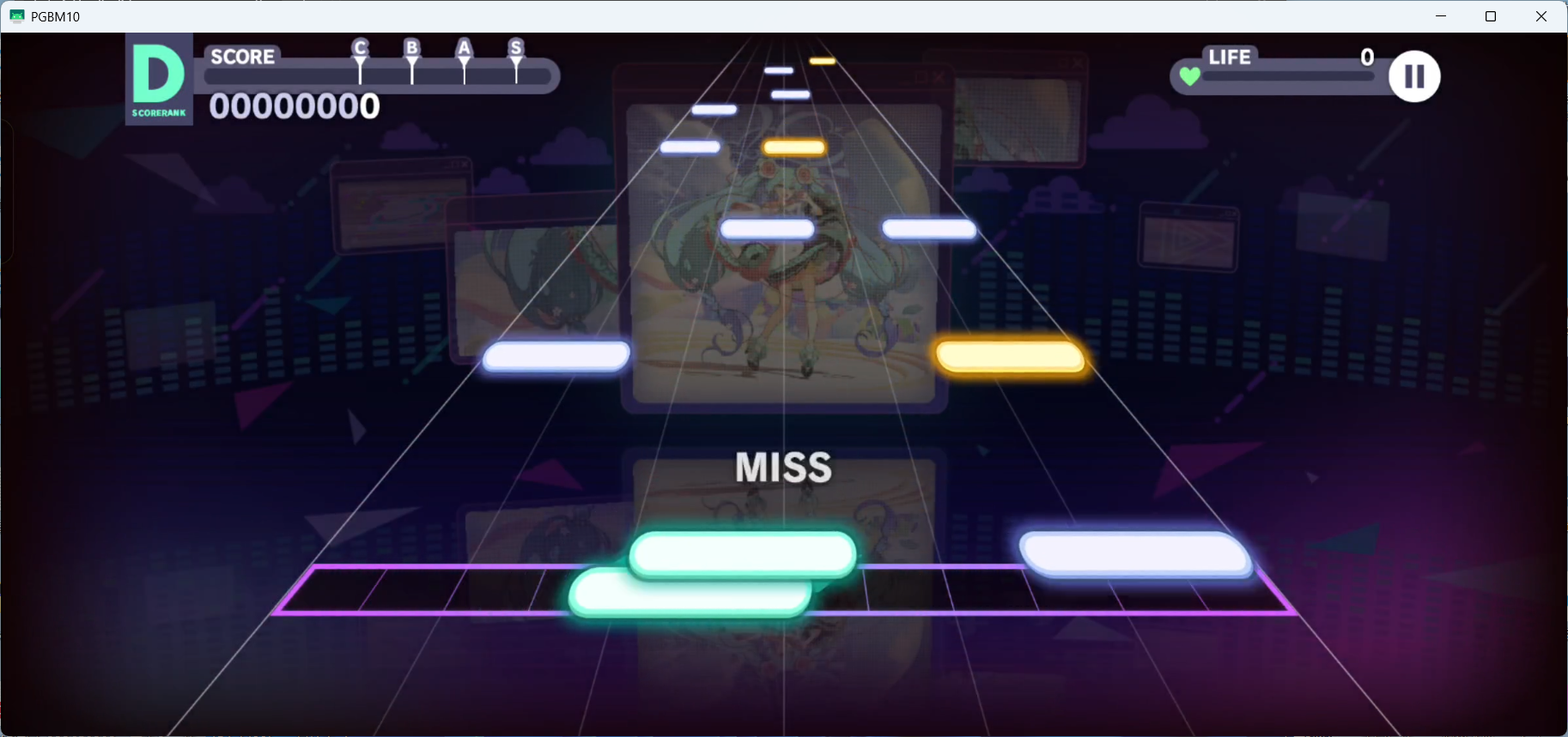tap: (568, 568, 811, 619), (630, 530, 858, 581), (1019, 530, 1255, 579), (483, 341, 630, 373), (937, 341, 1085, 372), (882, 218, 976, 239), (720, 219, 813, 239), (763, 140, 824, 154), (660, 141, 720, 153), (691, 105, 737, 115), (771, 90, 811, 100), (809, 57, 836, 64), (763, 67, 793, 73)
